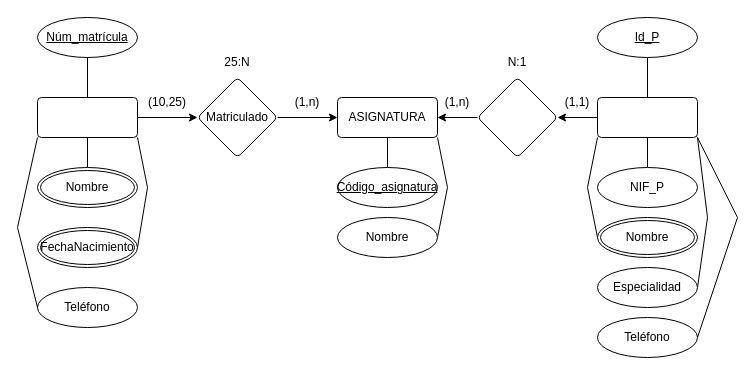
Image size: 756x375. Some labels were removed from this diagram. Each missing label, with the centre of its shape:
"ALUMNO" goes at (87,117).
"Imparte" goes at (517,117).
"PROFESOR" goes at (647,117).
